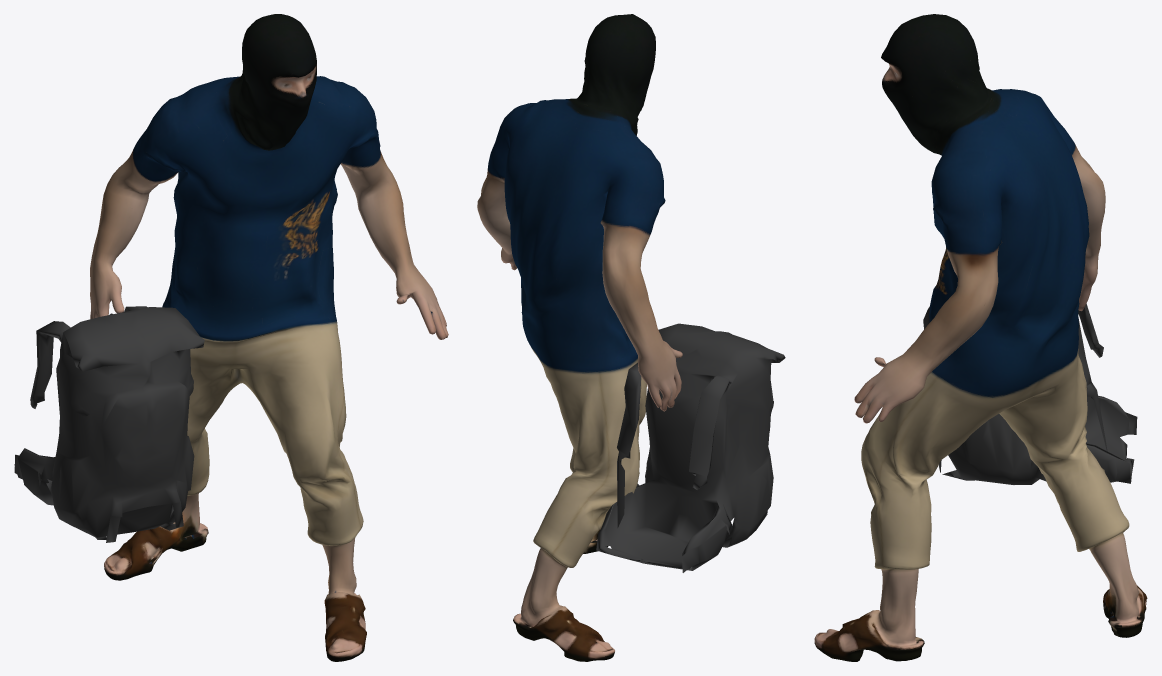
File: teroris_idle.glb
The picture shows the model from 3 angles, left to right: view 1: azimuth 30°, elevation 25°; view 2: azimuth 150°, elevation 25°; view 3: azimuth 270°, elevation 25°; orthographic projection. The views are drawn at different scales.
Visible parts, largest first — view 1: tripo_node_a63f28f0; view 2: tripo_node_a63f28f0; view 3: tripo_node_a63f28f0.
Part boxes in pixels (box(x1,y1,x2,y2)): tripo_node_a63f28f0: box(14, 14, 448, 661); tripo_node_a63f28f0: box(477, 14, 785, 661); tripo_node_a63f28f0: box(814, 14, 1147, 661).
Bounding box in the file's own units: 52.75 × 92.83 × 44.79.
2 materials, 2 textured.
